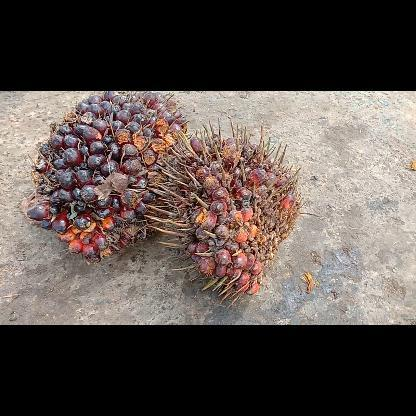Kurang masak: (27, 91, 187, 263)
TBS masak: (146, 117, 302, 307)
